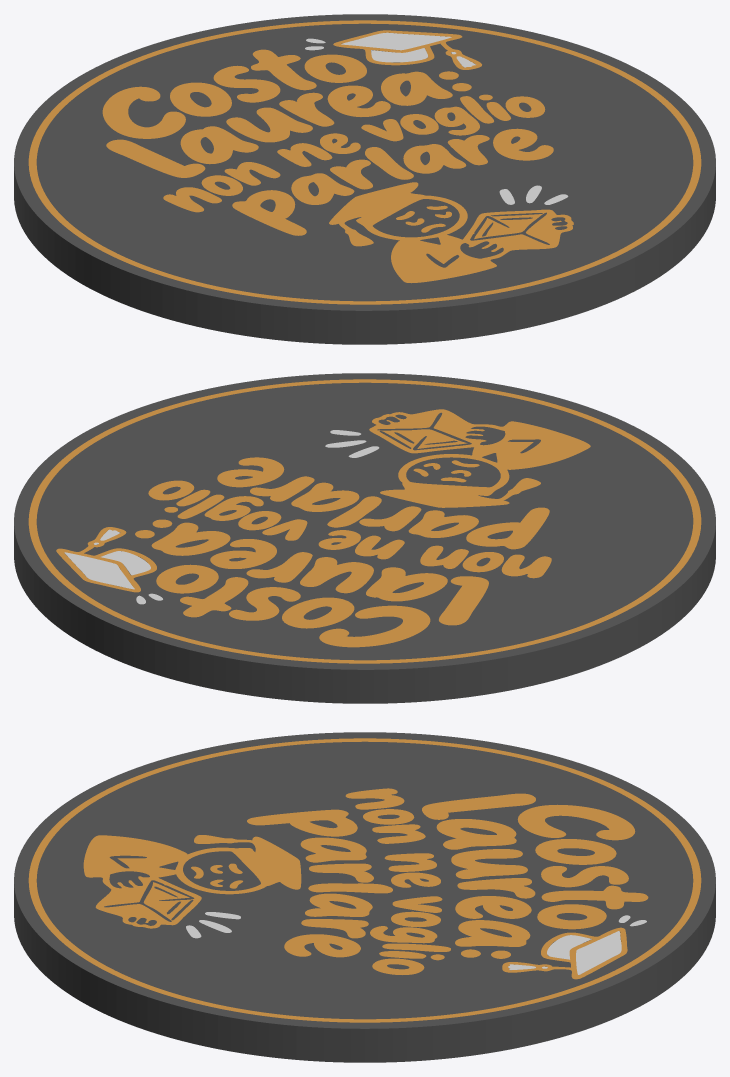
File: sottobicchiere-costo-laurea.glb
The picture shows the model from 3 angles, top to bottom: view 1: azimuth 30°, elevation 25°; view 2: azimuth 150°, elevation 25°; view 3: azimuth 270°, elevation 25°; orthographic projection.
Visible parts, largest first — view 1: coaster_base, coaster_ink, coaster_accent; view 2: coaster_base, coaster_ink, coaster_accent; view 3: coaster_base, coaster_ink, coaster_accent.
Part boxes in pixels (box(x1,y1,x2,y2)): coaster_base: box(14, 14, 715, 344); coaster_ink: box(28, 20, 701, 304); coaster_accent: box(305, 32, 568, 204); coaster_base: box(14, 373, 715, 703); coaster_ink: box(28, 379, 701, 663); coaster_accent: box(64, 430, 379, 604); coaster_base: box(14, 732, 715, 1062); coaster_ink: box(28, 738, 701, 1022); coaster_accent: box(186, 912, 646, 974).
Bounding box in the file's own units: 0.075 × 0.004 × 0.075.
